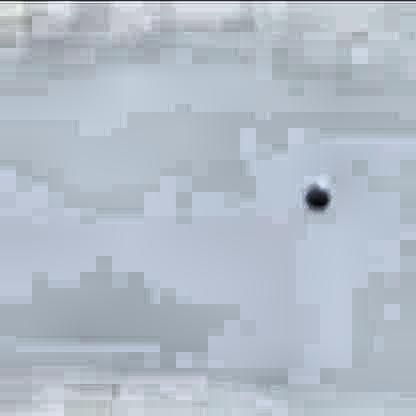golfball: (300, 175, 328, 206)
